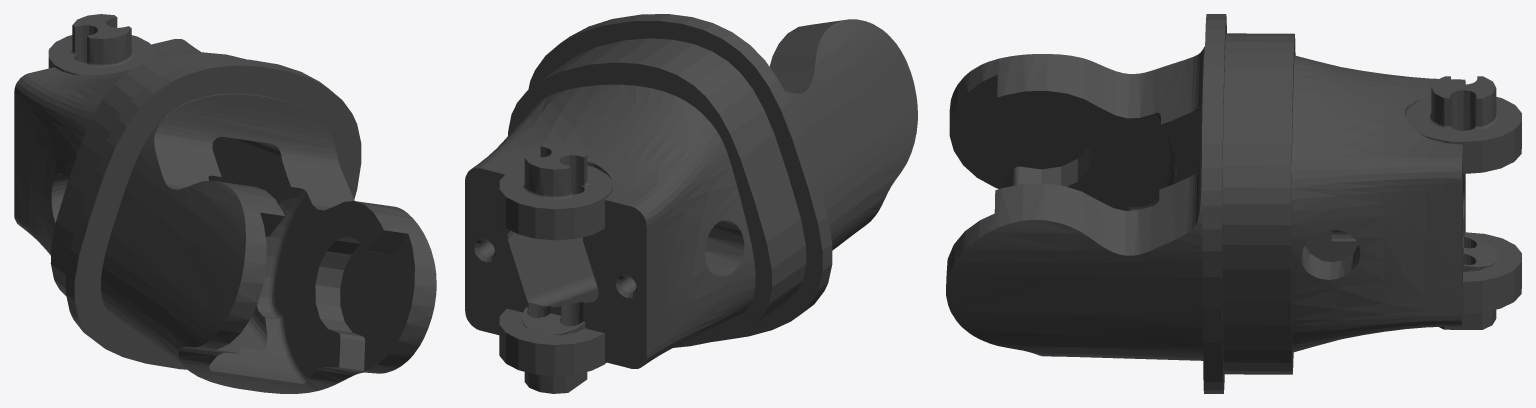
Rendered from lh_thumb_metacarpals_base1_vis.obj.
The picture shows the model from 3 angles, left to right: view 1: azimuth 30°, elevation 25°; view 2: azimuth 150°, elevation 25°; view 3: azimuth 270°, elevation 25°; orthographic projection. The views are drawn at different scales.
Visible parts, largest first — view 1: lh_thumb_metacarpals_base1; view 2: lh_thumb_metacarpals_base1; view 3: lh_thumb_metacarpals_base1.
Part boxes in pixels (x1,y1,x2,y2): lh_thumb_metacarpals_base1: (14, 14, 436, 393); lh_thumb_metacarpals_base1: (465, 14, 917, 393); lh_thumb_metacarpals_base1: (946, 14, 1521, 393).
Bounding box in the file's own units: 0.0273 × 0.0282 × 0.044.
Materials: 1 (1 with a texture image).
